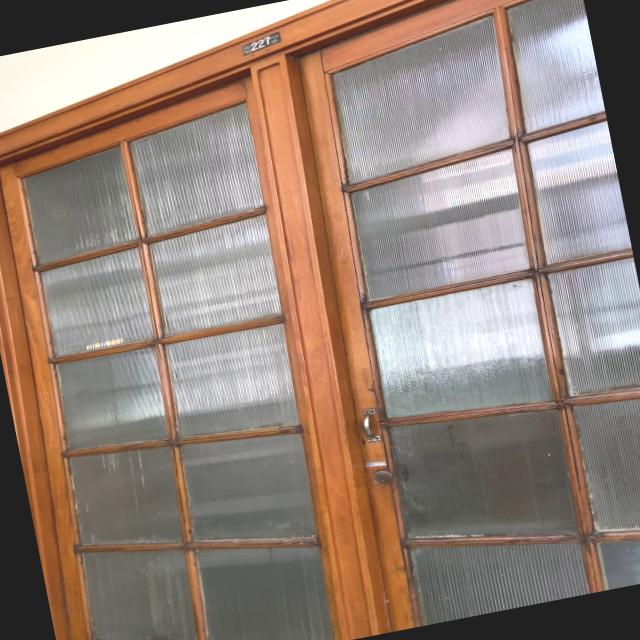room227: (236, 28, 288, 58)
